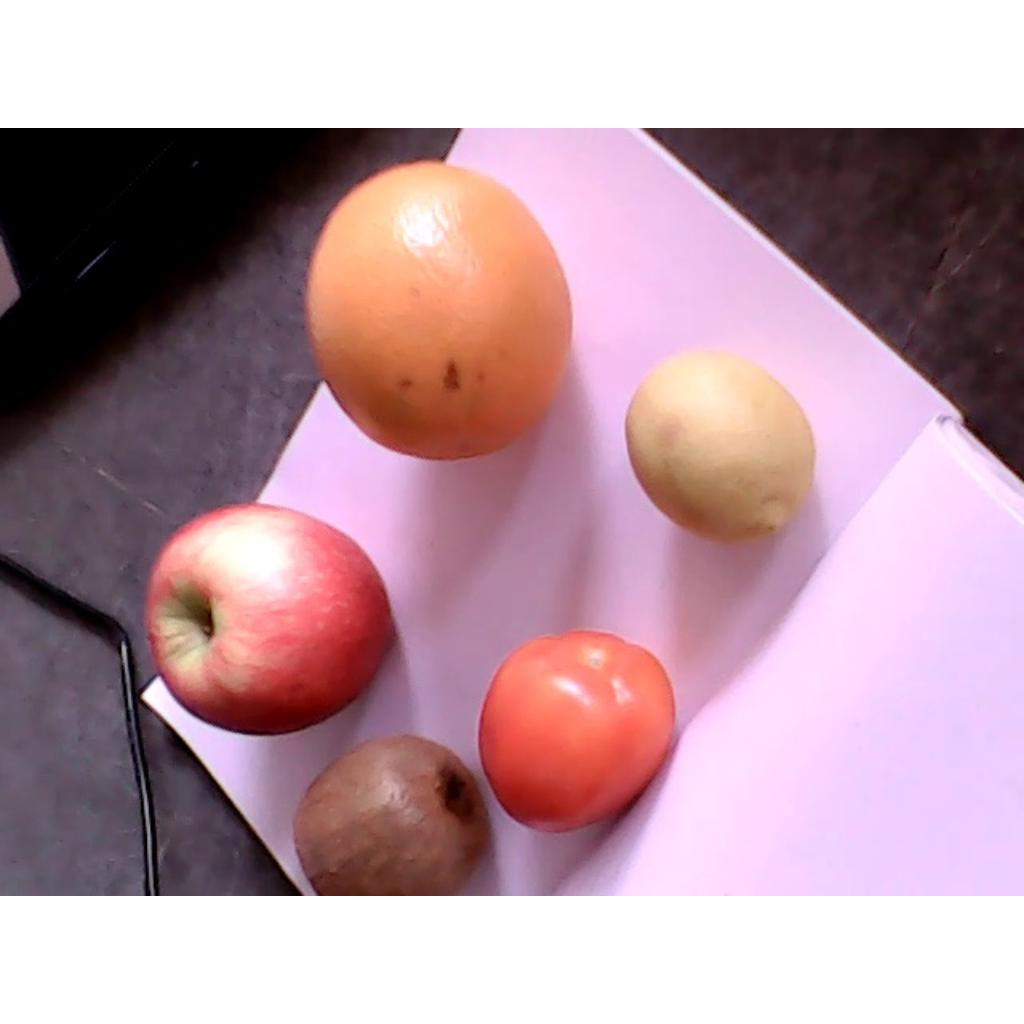apple: (147, 502, 395, 735)
kiwi: (292, 735, 492, 894)
lemon: (625, 350, 815, 539)
orange: (305, 160, 571, 463)
tomato: (479, 629, 674, 833)
